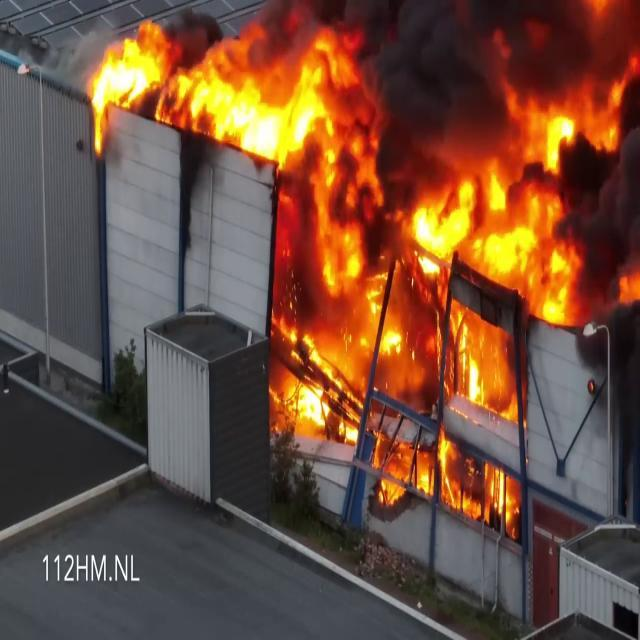Fire: (256, 43, 627, 520), (78, 2, 366, 156)
